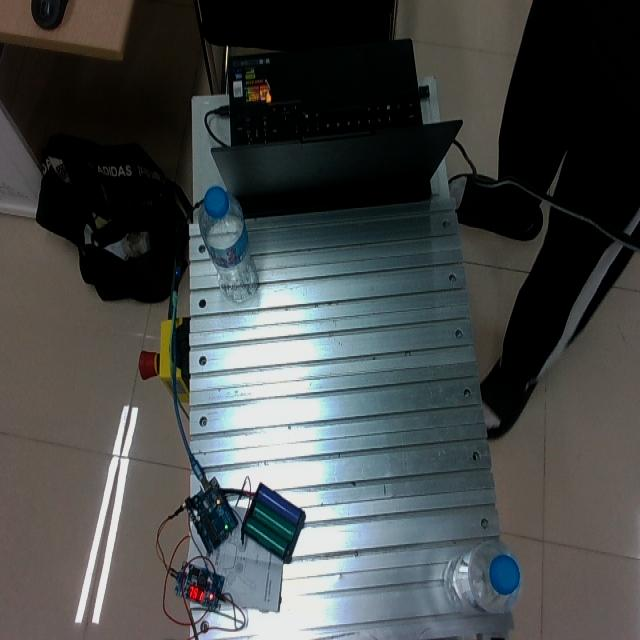lavie: (199, 185, 260, 304), (444, 540, 521, 615)
